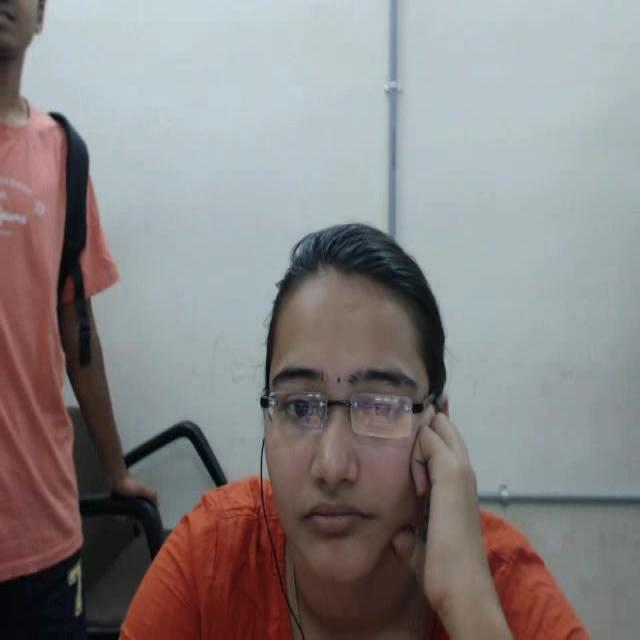Bored: (242, 197, 470, 601)
